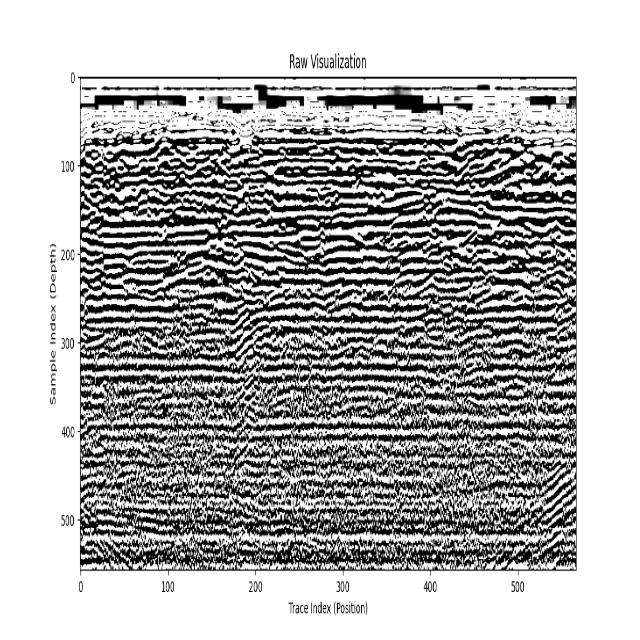anomaly: (474, 459, 575, 568), (82, 500, 136, 570)
